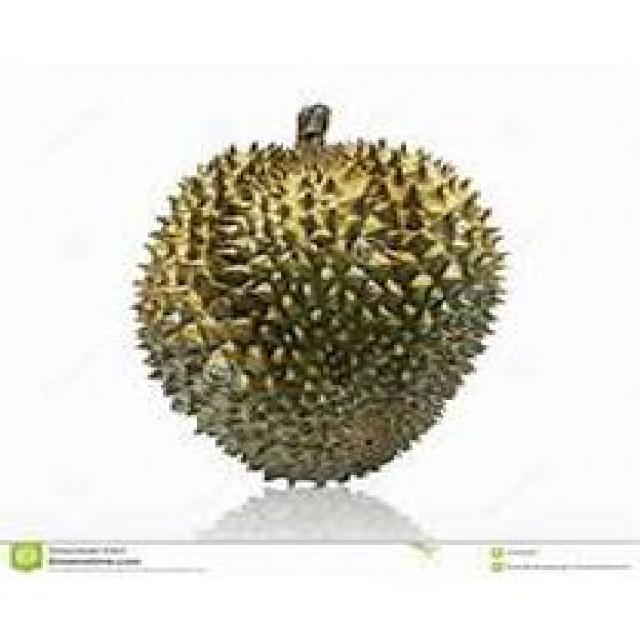fruit: (98, 102, 530, 518)
